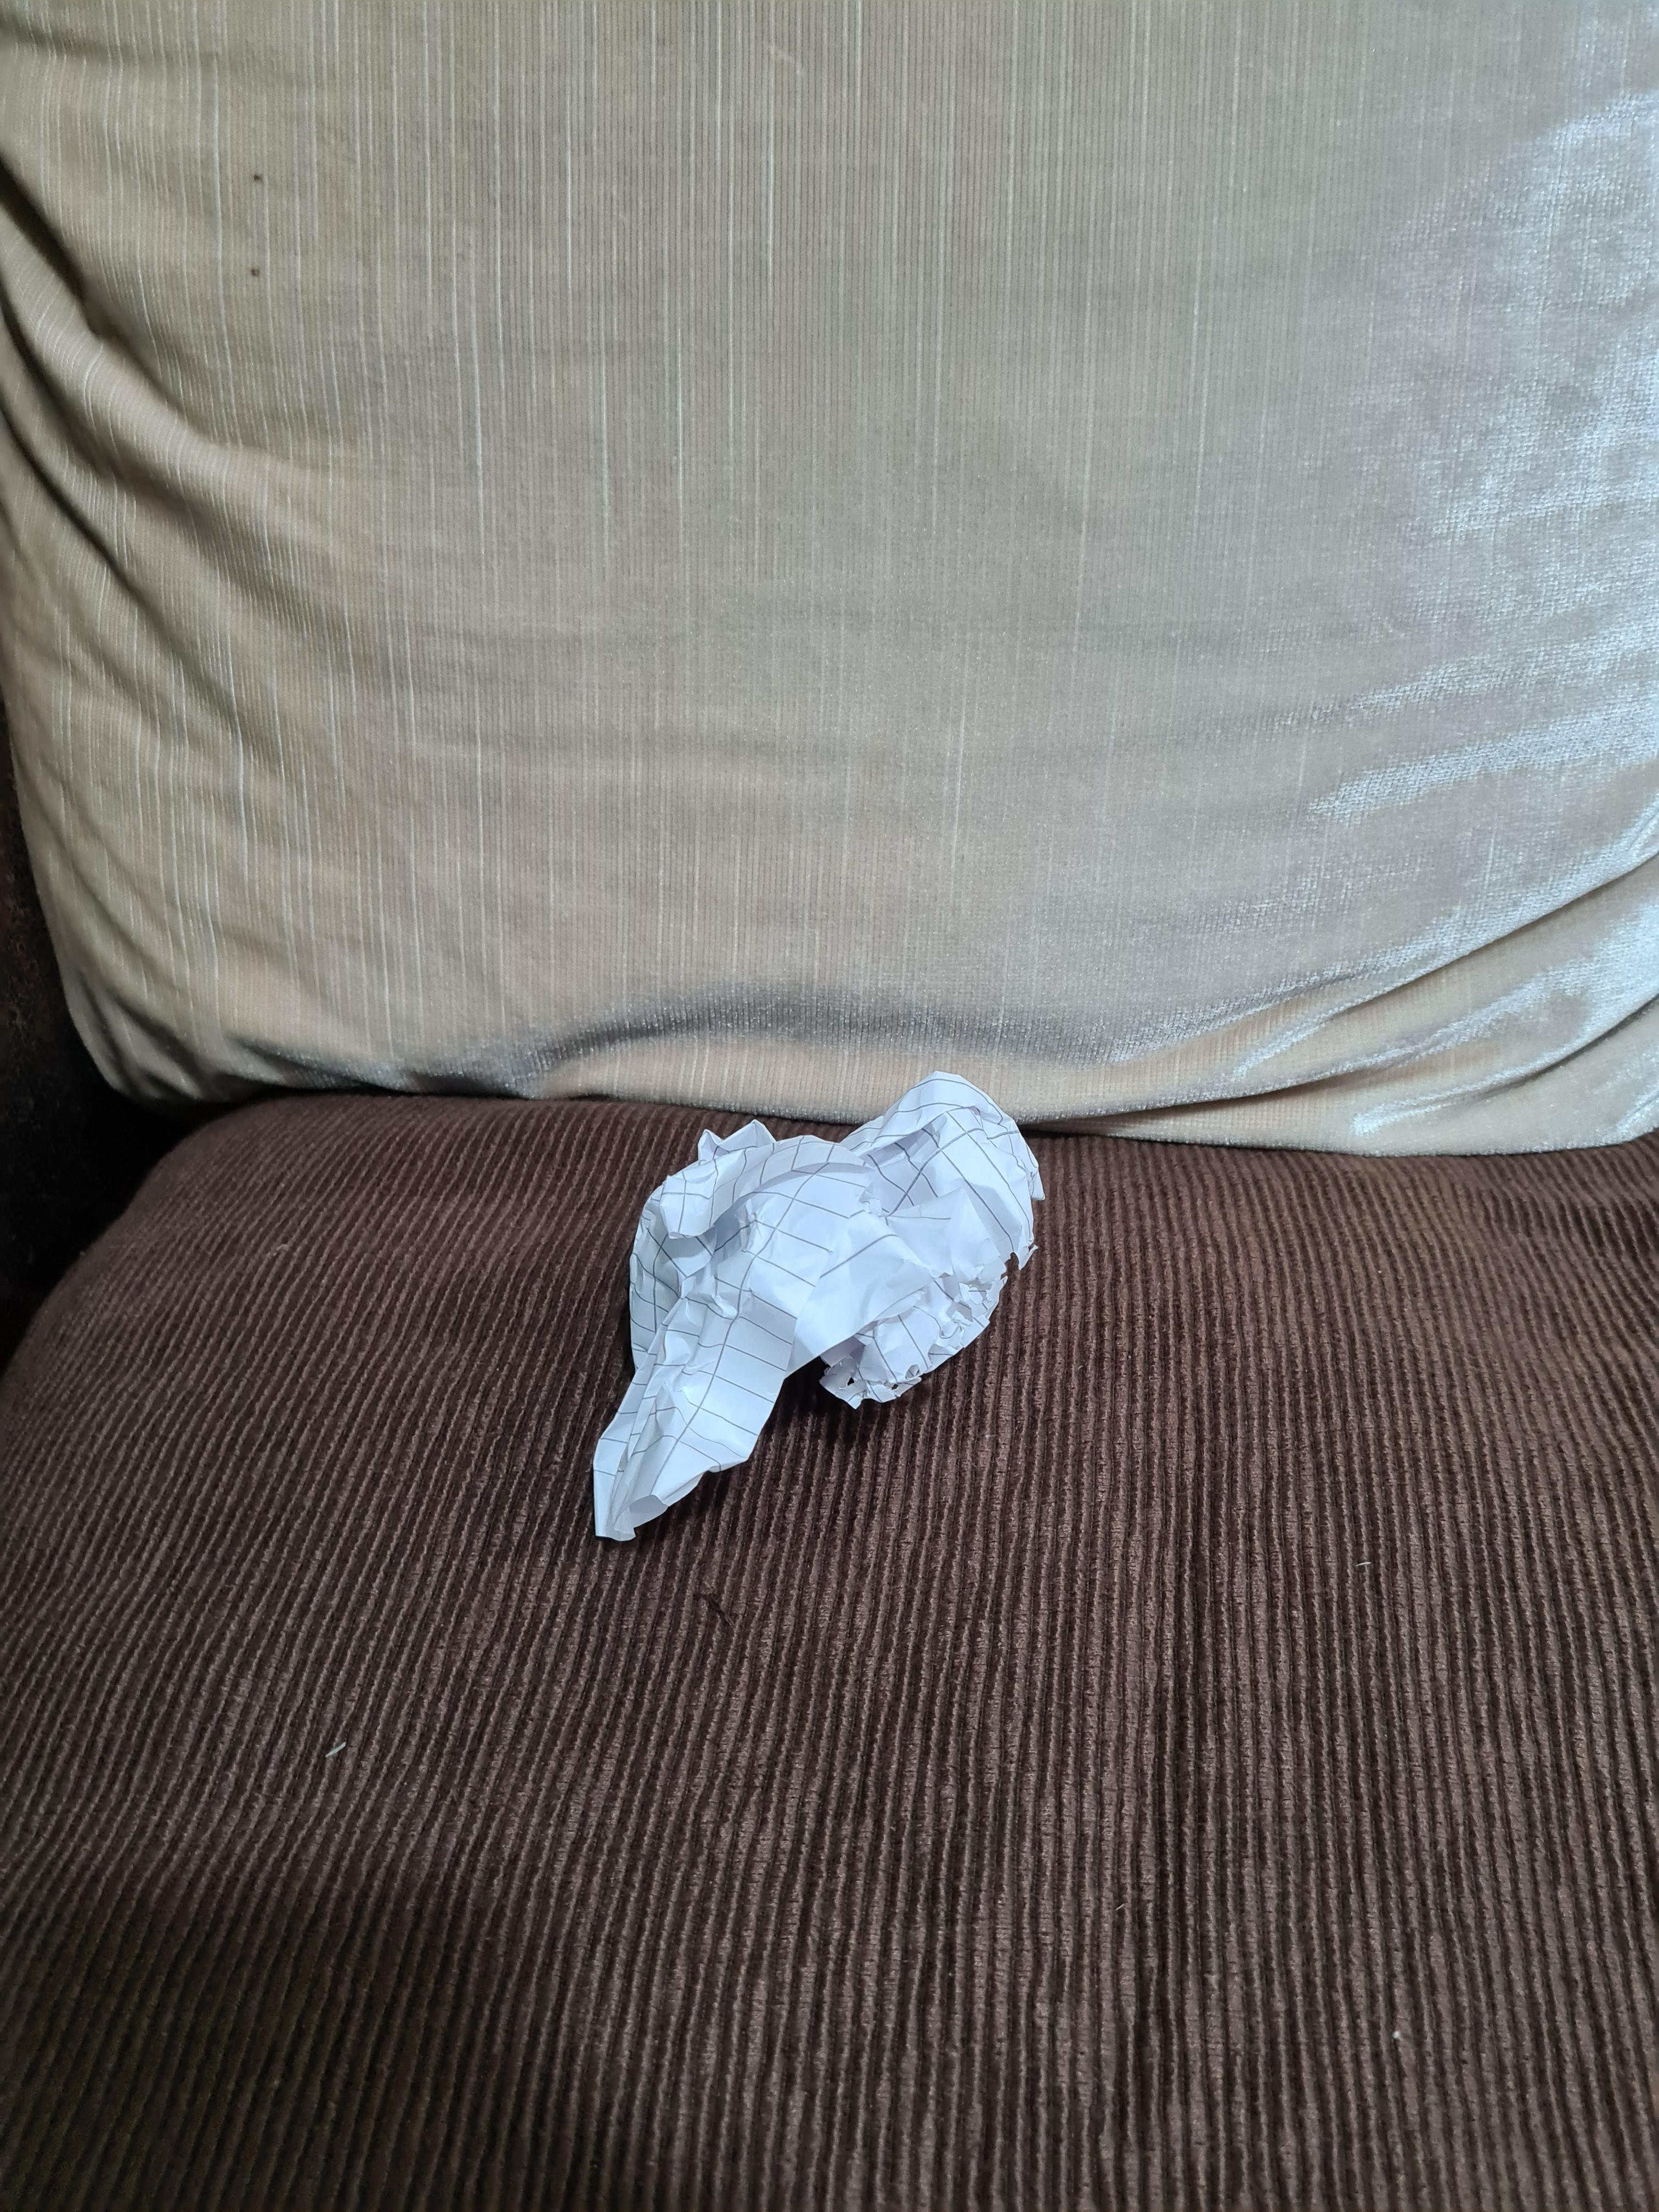Paper: (544, 1060, 1050, 1538)
